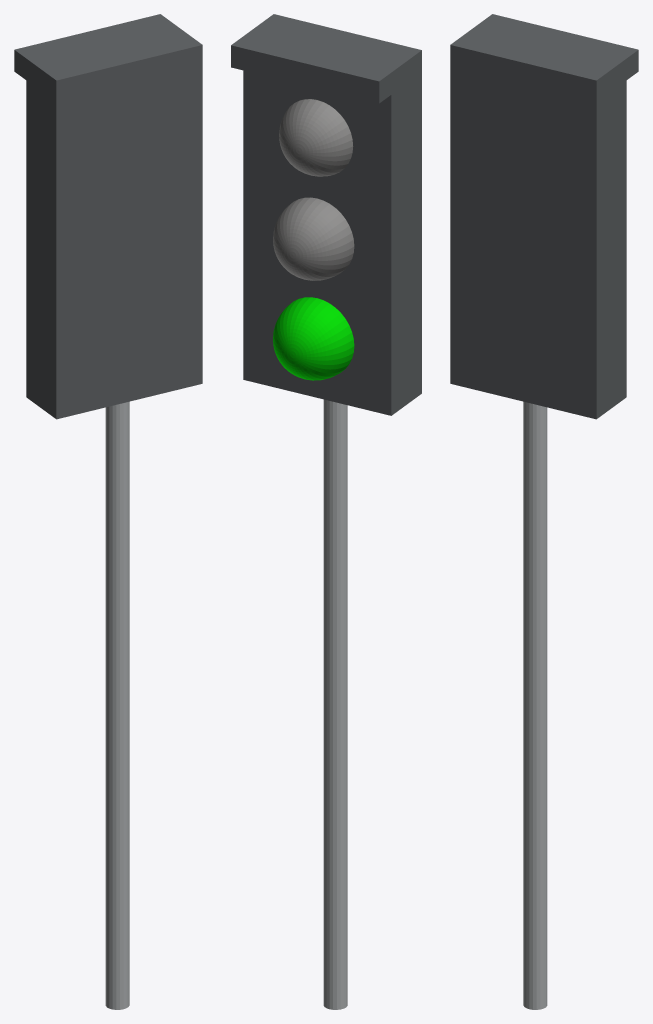
File: green_signal.glb
The picture shows the model from 3 angles, left to right: view 1: azimuth 30°, elevation 25°; view 2: azimuth 150°, elevation 25°; view 3: azimuth 330°, elevation 25°; orthographic projection.
Visible parts, largest first — view 1: Mesh_Mesh_head_geo.001_lambert2SG.001; view 2: Mesh_Mesh_head_geo.001_lambert2SG.001; view 3: Mesh_Mesh_head_geo.001_lambert2SG.001.
Part boxes in pixels (x1,y1,x2,y2): Mesh_Mesh_head_geo.001_lambert2SG.001: [14, 14, 202, 1009]; Mesh_Mesh_head_geo.001_lambert2SG.001: [231, 14, 421, 1009]; Mesh_Mesh_head_geo.001_lambert2SG.001: [450, 14, 638, 1009].
Bounding box in the file's own units: 14 × 87 × 9.
